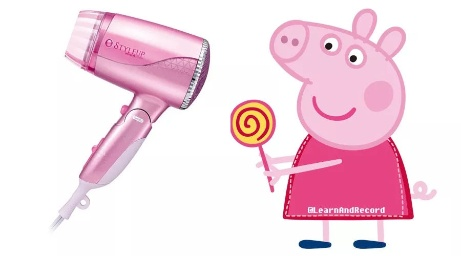Peppa: (228, 7, 441, 252)
